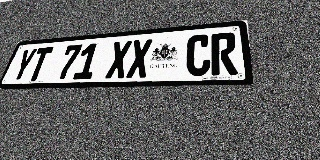1: (73, 43, 100, 80)
7: (55, 44, 83, 80)
C: (185, 34, 210, 76)
R: (211, 32, 238, 75)
T: (25, 47, 54, 81)
X: (105, 40, 132, 79), (126, 39, 153, 78)
Y: (10, 48, 38, 82)
